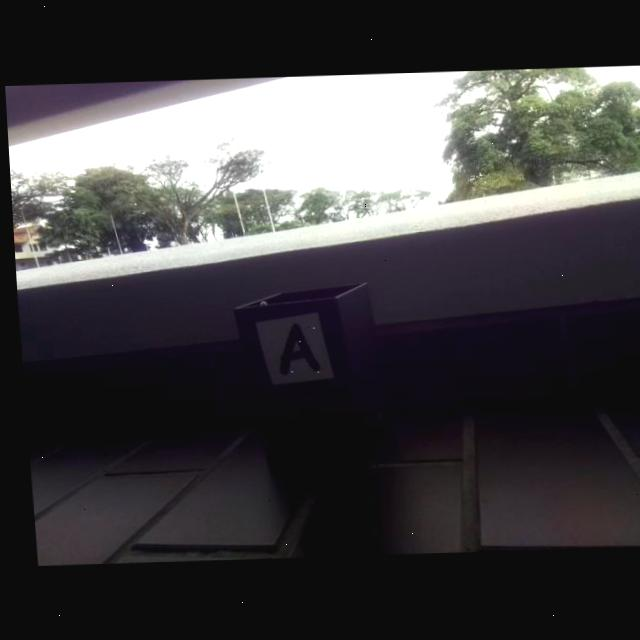A: (275, 323, 315, 376)
